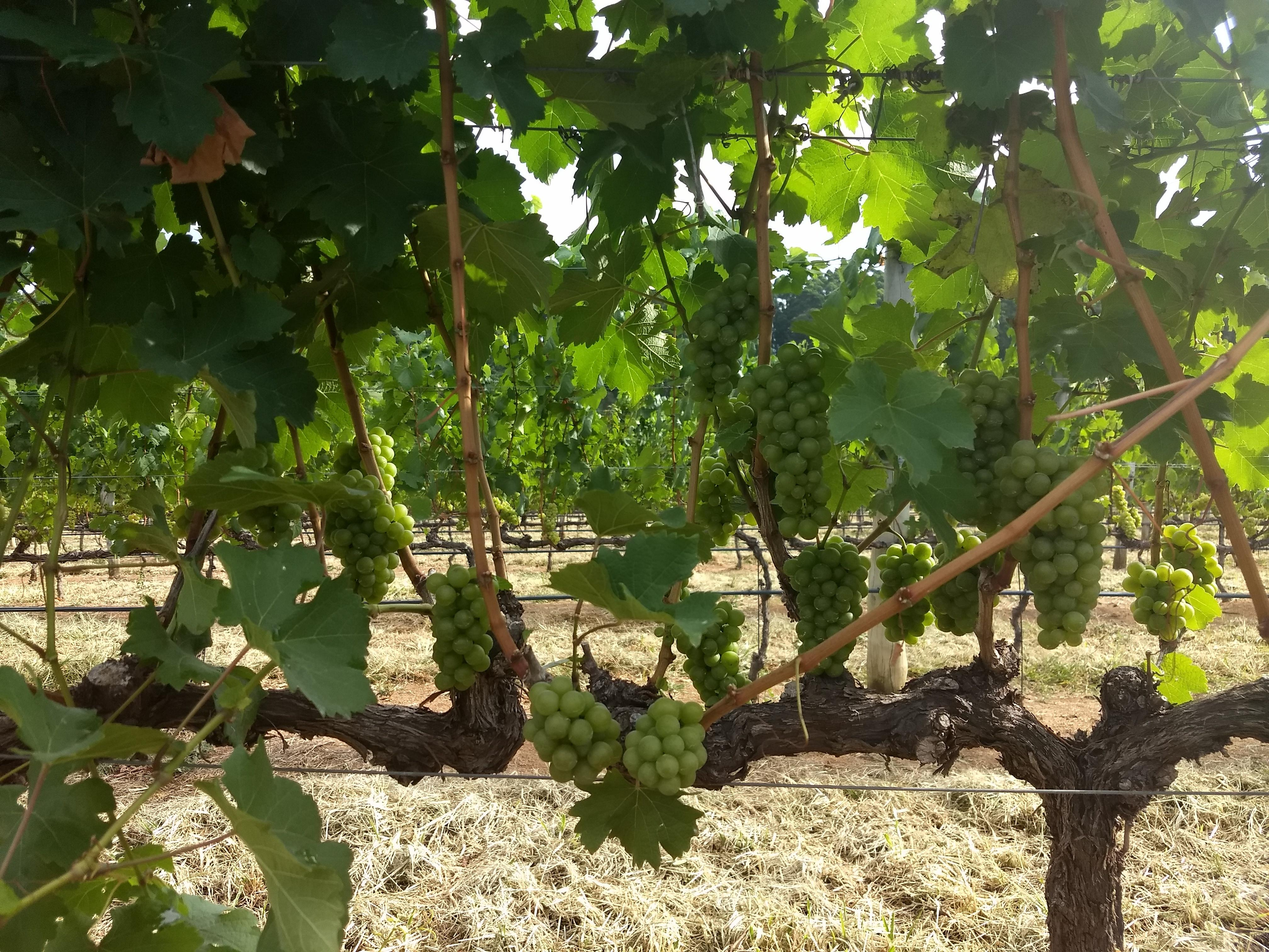leaf: (199, 745, 351, 952), (269, 102, 443, 273), (0, 92, 160, 250), (551, 529, 717, 643), (115, 5, 237, 160), (829, 359, 974, 484), (796, 128, 942, 244), (0, 764, 115, 892), (133, 288, 291, 381), (273, 579, 375, 717), (569, 770, 703, 868), (523, 29, 654, 129), (942, 0, 1053, 108), (453, 4, 545, 133), (99, 880, 259, 952), (1032, 290, 1157, 380), (213, 335, 317, 443), (88, 229, 205, 325), (183, 451, 366, 511), (460, 211, 556, 325), (0, 666, 104, 764), (572, 305, 679, 400), (324, 0, 438, 87), (215, 542, 325, 632), (120, 604, 220, 690), (892, 453, 976, 551), (595, 531, 699, 609), (333, 259, 428, 334), (0, 9, 121, 66), (245, 0, 345, 64), (596, 151, 675, 230), (842, 0, 928, 70), (1216, 375, 1268, 490), (548, 271, 628, 345), (96, 371, 180, 425), (462, 149, 524, 221), (577, 489, 656, 536), (1075, 63, 1128, 132), (175, 559, 223, 632), (512, 132, 576, 182), (230, 227, 285, 282), (1154, 651, 1208, 704), (1163, 0, 1226, 40), (417, 206, 449, 268), (533, 99, 588, 128), (1186, 586, 1221, 630), (304, 549, 312, 551), (279, 546, 285, 548), (32, 774, 34, 779), (129, 50, 133, 51), (834, 11, 836, 13), (534, 93, 535, 96), (235, 236, 237, 237), (526, 123, 526, 123), (539, 100, 541, 100), (10, 947, 14, 947), (945, 45, 945, 48), (839, 14, 839, 14), (707, 549, 707, 554), (508, 110, 509, 110)
